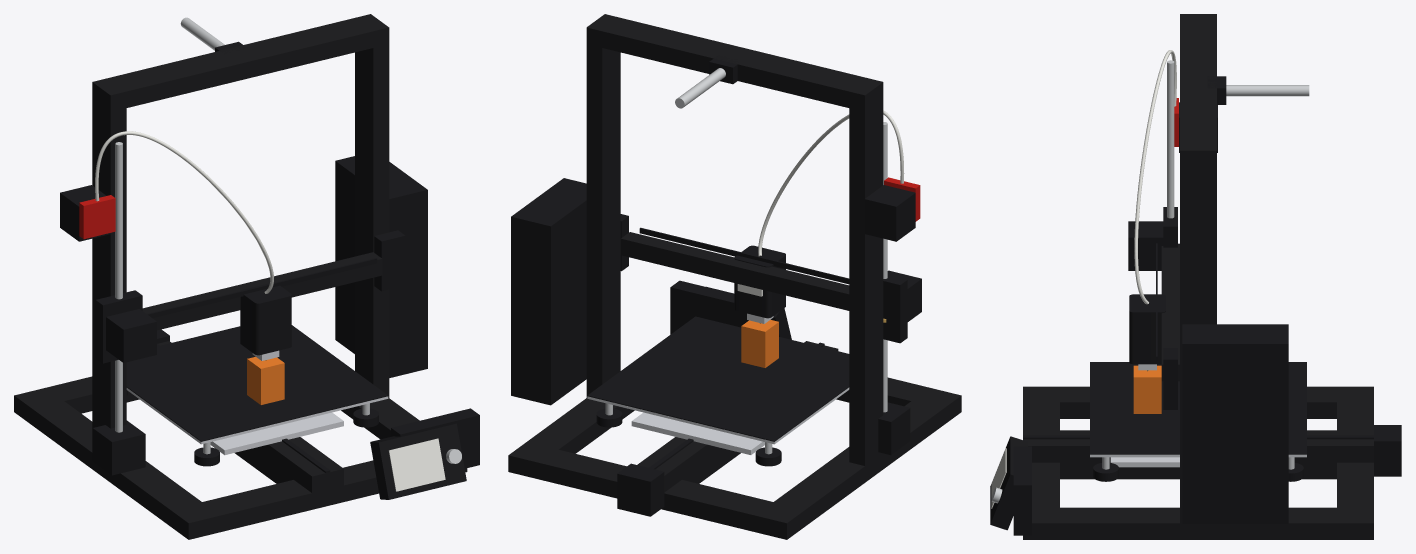
Rendered from printer3d.glb.
3 views of the same model, side by side, from view 1: azimuth 30°, elevation 25°; view 2: azimuth 150°, elevation 25°; view 3: azimuth 270°, elevation 25° (orthographic).
Visible parts, largest first — view 1: printer3d_black_alu, printer3d_black_plastic, printer3d_pla_white, printer3d_aluminum, printer3d_steel, printer3d_pla_orange, printer3d_red_plastic; view 2: printer3d_black_alu, printer3d_black_plastic, printer3d_aluminum, printer3d_steel, printer3d_pla_orange, printer3d_pla_white; view 3: printer3d_black_plastic, printer3d_black_alu, printer3d_steel, printer3d_pla_white, printer3d_pla_orange, printer3d_aluminum.
Part boxes in pixels (bbox=[...]): printer3d_black_alu: bbox=[14, 14, 467, 539]; printer3d_black_plastic: bbox=[60, 41, 479, 499]; printer3d_pla_white: bbox=[95, 131, 445, 491]; printer3d_aluminum: bbox=[126, 350, 388, 455]; printer3d_steel: bbox=[115, 17, 461, 463]; printer3d_pla_orange: bbox=[247, 356, 284, 404]; printer3d_red_plastic: bbox=[79, 195, 115, 239]; printer3d_black_alu: bbox=[508, 14, 961, 539]; printer3d_black_plastic: bbox=[511, 55, 921, 516]; printer3d_aluminum: bbox=[587, 313, 849, 454]; printer3d_steel: bbox=[605, 68, 887, 454]; printer3d_pla_orange: bbox=[741, 319, 778, 367]; printer3d_pla_white: bbox=[737, 110, 904, 296]; printer3d_black_plastic: bbox=[990, 76, 1401, 535]; printer3d_black_alu: bbox=[1023, 14, 1373, 539]; printer3d_steel: bbox=[991, 60, 1309, 503]; printer3d_pla_white: bbox=[991, 50, 1176, 508]; printer3d_pla_orange: bbox=[1133, 365, 1161, 413]; printer3d_aluminum: bbox=[1090, 364, 1306, 467].
Bounding box in the file's own units: 0.44 × 0.465 × 0.4453.
